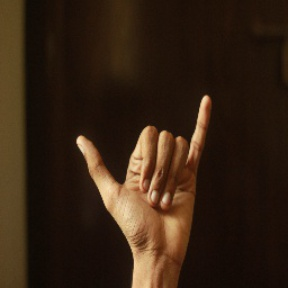J: (73, 83, 214, 259)
